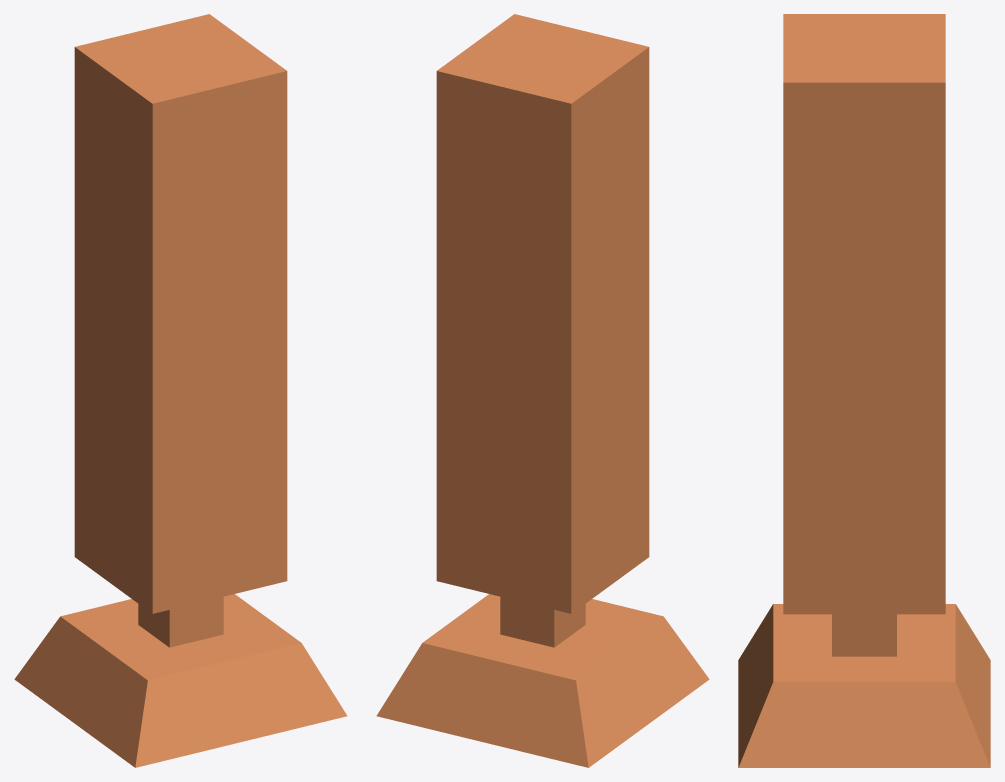
The model's file is Dummyx1.fbx.
The picture shows the model from 3 angles, left to right: view 1: azimuth 30°, elevation 25°; view 2: azimuth 150°, elevation 25°; view 3: azimuth 270°, elevation 25°; orthographic projection. The views are drawn at different scales.
Parts seen in each view (by area): view 1: Plane; view 2: Plane; view 3: Plane.
Part boxes in pixels (x1,y1,x2,y2): Plane: (14,14,347,767); Plane: (376,14,709,767); Plane: (738,14,990,767).
Size of the model in its own units: 265 by 761 by 261.
